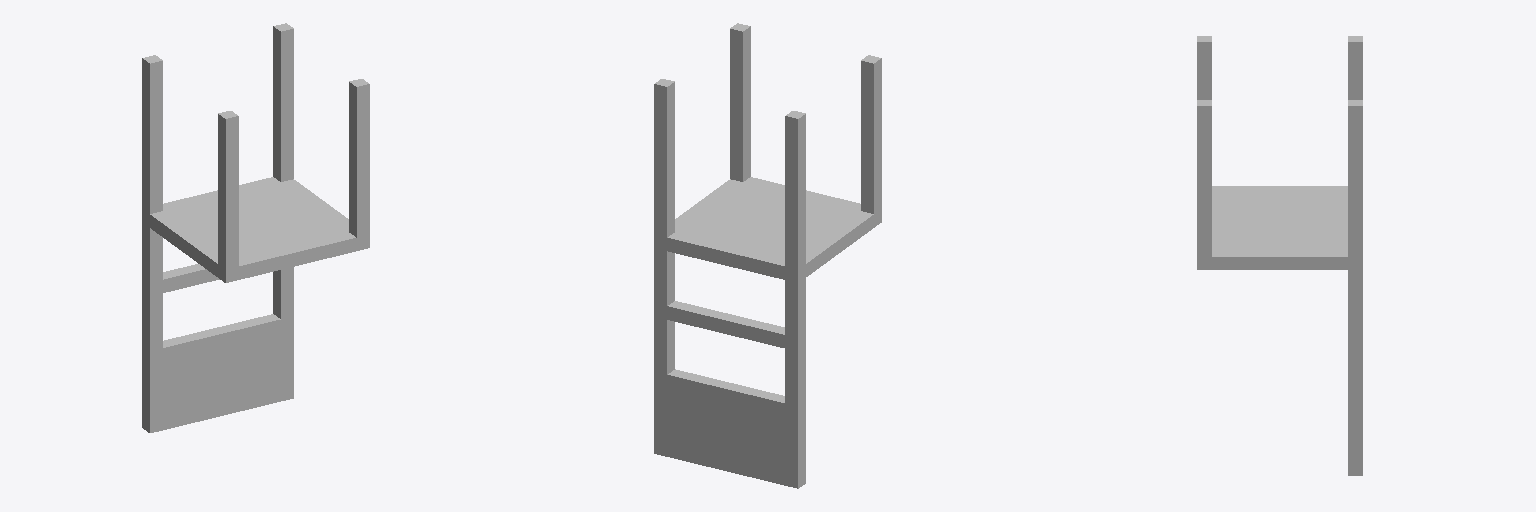
File: chair.obj
3 renders of one model, left to right at view 1: azimuth 30°, elevation 25°; view 2: azimuth 150°, elevation 25°; view 3: azimuth 270°, elevation 25°, orthographic.
Parts seen in each view (by area): view 1: Cube.007_Cube.008; view 2: Cube.007_Cube.008; view 3: Cube.007_Cube.008.
Boxes of the visible parts, <box> form: Cube.007_Cube.008: <box>142,23,369,432</box>; Cube.007_Cube.008: <box>654,23,881,488</box>; Cube.007_Cube.008: <box>1197,36,1362,475</box>.
Size of the model in its own units: 17.02 by 41.76 by 17.02.